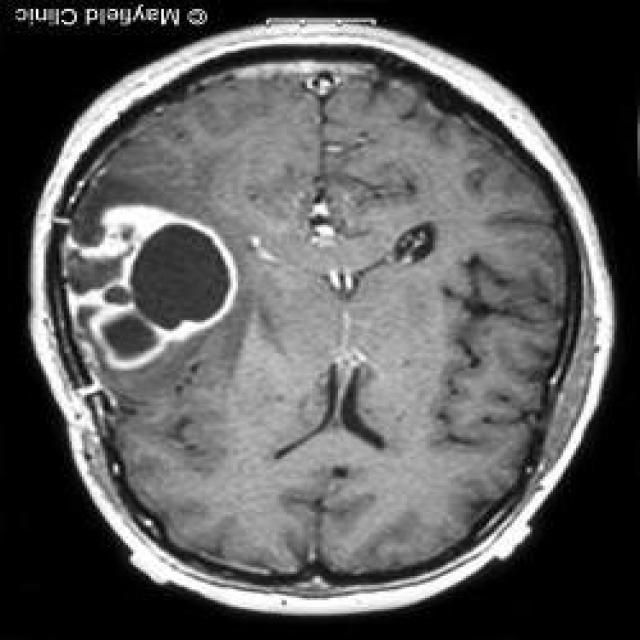brain tumor: (59, 210, 230, 373)
